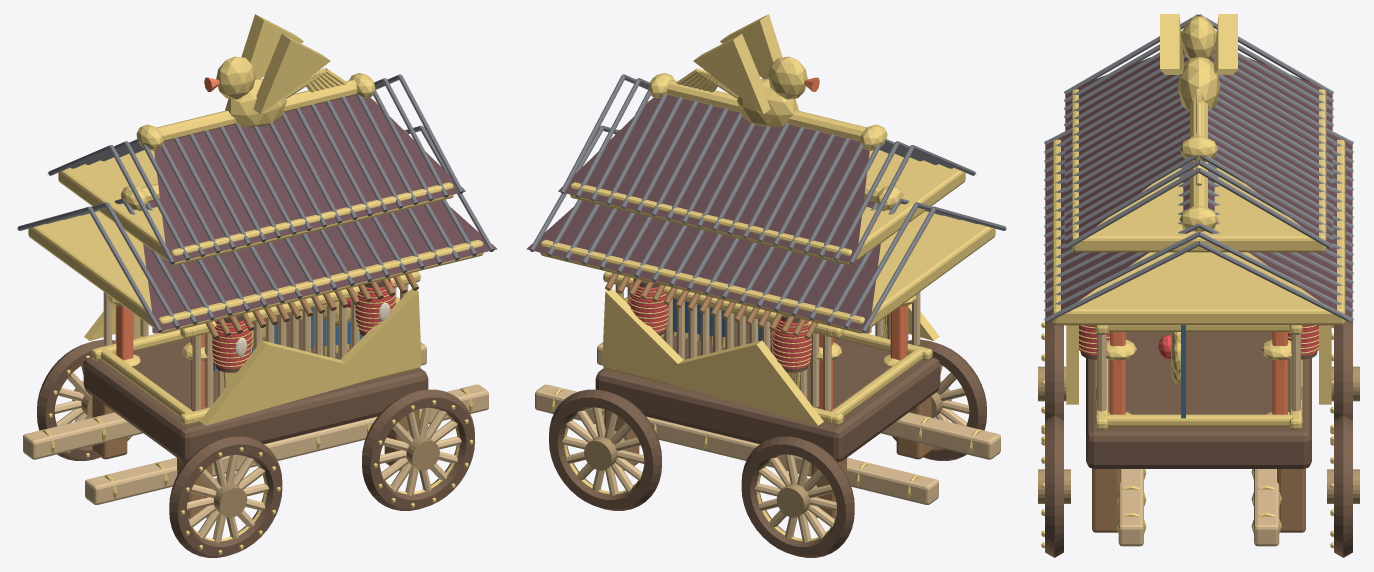
File: matsuri_danjiri.glb
3 renders of one model, left to right at view 1: azimuth 30°, elevation 25°; view 2: azimuth 150°, elevation 25°; view 3: azimuth 270°, elevation 25°, orthographic. The views are drawn at different scales.
Parts seen in each view (by area): view 1: Festival shrine multi-tier roofing hipped roof.002, Heavy joined lacquered chassis, Festival shrine multi-tier roofing hipped roof, Carved danjiri side dragon, Festival shrine multi-tier roofing underedge, Festival shrine multi-tier roofing underedge.001, Side carrying beam, Carved float wheel outer tire, Carved float wheel outer tire.002, Side carrying beam.001, Roof gilded phoenix phoenix wing, Carved float wheel outer tire.001 (+36 smaller); view 2: Festival shrine multi-tier roofing hipped roof.003, Heavy joined lacquered chassis, Festival shrine multi-tier roofing hipped roof.001, Carved danjiri side dragon.001, Festival shrine multi-tier roofing underedge, Festival shrine multi-tier roofing underedge.001, Carved float wheel outer tire.001, Carved float wheel outer tire.003, Side carrying beam.001, Side carrying beam, Roof gilded phoenix phoenix wing.001, Carved float wheel outer tire (+37 smaller); view 3: Heavy joined lacquered chassis, Festival shrine multi-tier roofing underedge, Festival shrine multi-tier roofing underedge.001, Festival shrine multi-tier roofing hipped roof.002, Festival shrine multi-tier roofing hipped roof.003, Festival shrine multi-tier roofing hipped roof, Festival shrine multi-tier roofing hipped roof.001, Carved float wheel outer tire.002, Carved float wheel outer tire.003, Hand-carved transverse sill.001, Side carrying beam, Side carrying beam.001 (+71 smaller).
Boxes of the visible parts, x1=… form: Festival shrine multi-tier roofing hipped roof.002: x1=154, y1=95, x2=465, y2=263; Heavy joined lacquered chassis: x1=83, y1=314, x2=428, y2=462; Festival shrine multi-tier roofing hipped roof: x1=138, y1=199, x2=497, y2=332; Carved danjiri side dragon: x1=200, y1=288, x2=421, y2=425; Festival shrine multi-tier roofing underedge: x1=28, y1=211, x2=483, y2=333; Festival shrine multi-tier roofing underedge.001: x1=58, y1=150, x2=453, y2=265; Side carrying beam: x1=85, y1=384, x2=488, y2=504; Carved float wheel outer tire: x1=169, y1=436, x2=282, y2=557; Carved float wheel outer tire.002: x1=362, y1=389, x2=474, y2=510; Side carrying beam.001: x1=23, y1=342, x2=426, y2=459; Roof gilded phoenix phoenix wing: x1=253, y1=34, x2=330, y2=114; Carved float wheel outer tire.001: x1=37, y1=339, x2=131, y2=460; Festival shrine multi-tier roofing hipped roof.003: x1=558, y1=95, x2=869, y2=263; Heavy joined lacquered chassis: x1=595, y1=314, x2=940, y2=462; Festival shrine multi-tier roofing hipped roof.001: x1=526, y1=199, x2=885, y2=332; Carved danjiri side dragon.001: x1=602, y1=288, x2=823, y2=425; Festival shrine multi-tier roofing underedge: x1=540, y1=211, x2=995, y2=333; Festival shrine multi-tier roofing underedge.001: x1=570, y1=150, x2=965, y2=265; Carved float wheel outer tire.001: x1=741, y1=436, x2=854, y2=557; Carved float wheel outer tire.003: x1=549, y1=389, x2=661, y2=510; Side carrying beam.001: x1=535, y1=384, x2=938, y2=504; Side carrying beam: x1=597, y1=342, x2=1000, y2=459; Roof gilded phoenix phoenix wing.001: x1=693, y1=34, x2=770, y2=114; Carved float wheel outer tire: x1=892, y1=339, x2=986, y2=460; Heavy joined lacquered chassis: x1=1086, y1=332, x2=1311, y2=468; Festival shrine multi-tier roofing underedge: x1=1052, y1=139, x2=1345, y2=325; Festival shrine multi-tier roofing underedge.001: x1=1071, y1=89, x2=1326, y2=252; Festival shrine multi-tier roofing hipped roof.002: x1=1065, y1=46, x2=1189, y2=249; Festival shrine multi-tier roofing hipped roof.003: x1=1208, y1=46, x2=1332, y2=249; Festival shrine multi-tier roofing hipped roof: x1=1045, y1=135, x2=1189, y2=323; Festival shrine multi-tier roofing hipped roof.001: x1=1208, y1=135, x2=1352, y2=323; Carved float wheel outer tire.002: x1=1045, y1=415, x2=1063, y2=557; Carved float wheel outer tire.003: x1=1334, y1=415, x2=1352, y2=557; Hand-carved transverse sill.001: x1=1095, y1=414, x2=1302, y2=427; Side carrying beam: x1=1118, y1=469, x2=1143, y2=546; Side carrying beam.001: x1=1254, y1=469, x2=1279, y2=546.
Size of the model in its own units: 1.78 by 1.95 by 1.15.
